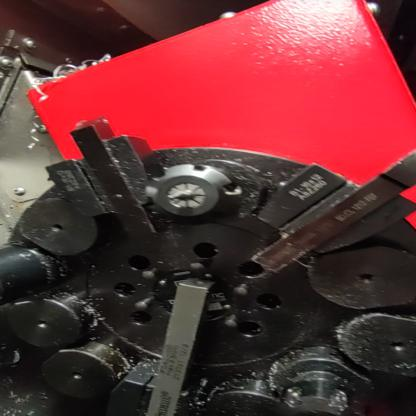bit: (242, 146, 416, 283), (95, 274, 258, 416), (33, 107, 182, 245)
